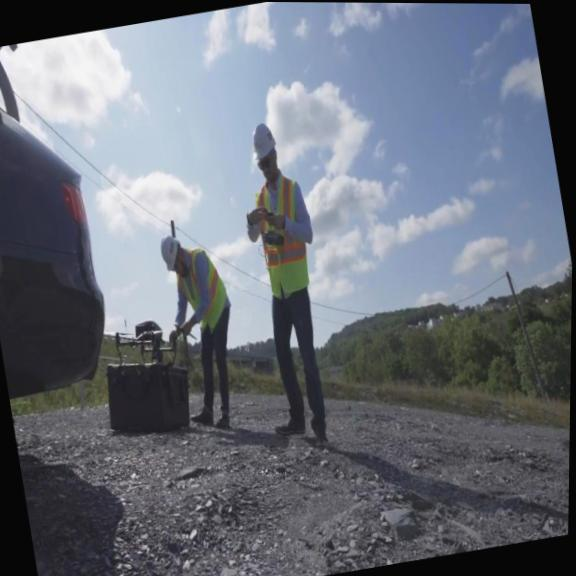safety_vest: (248, 170, 319, 302), (170, 239, 234, 338)
